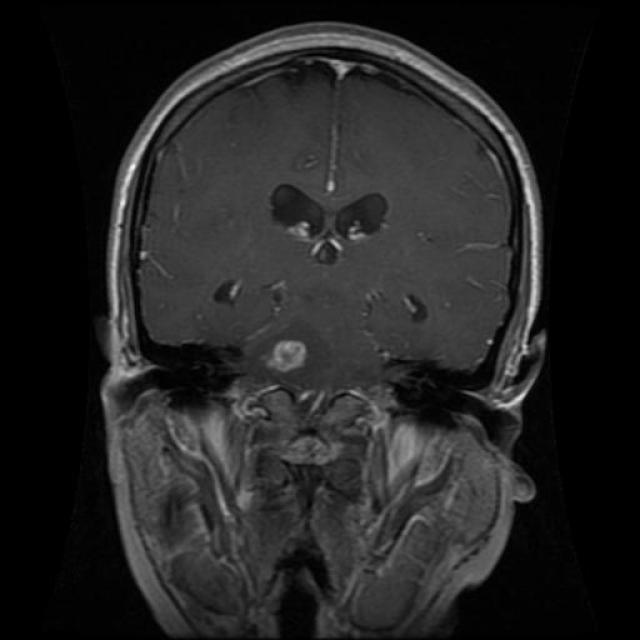glioma: (264, 175, 398, 268)
